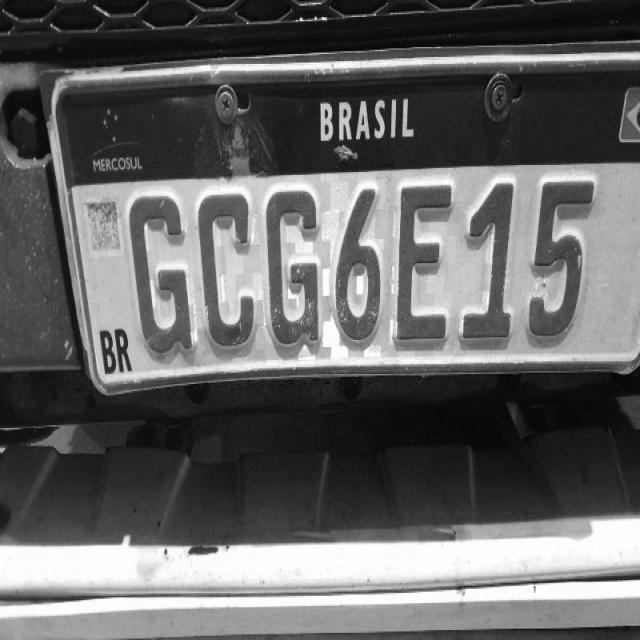placa_mercosul: (51, 52, 639, 394)
